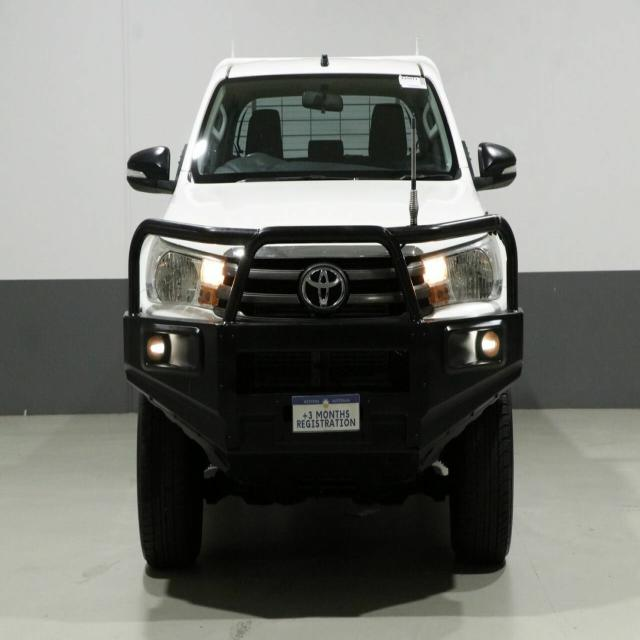light_vehicle: (101, 39, 525, 587)
